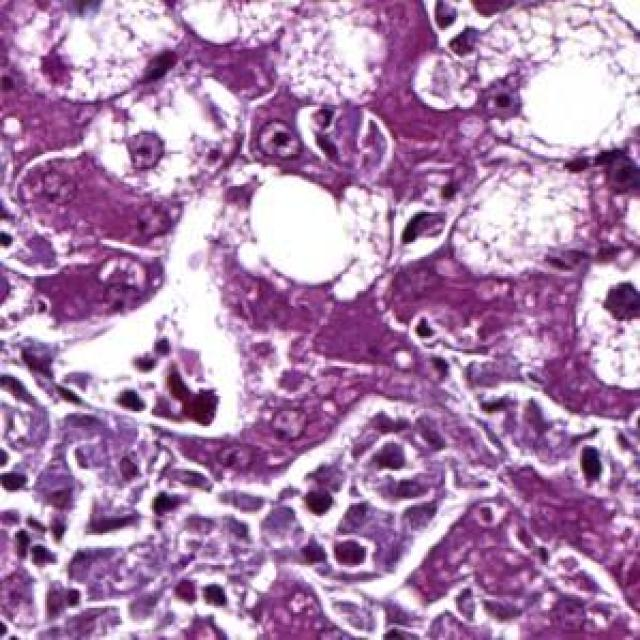ballooning: (447, 146, 621, 280), (80, 70, 250, 206)
